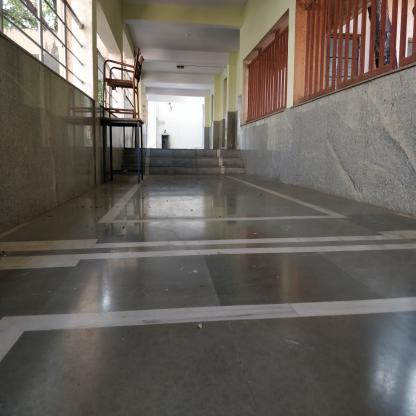stairs: (146, 150, 242, 176)
